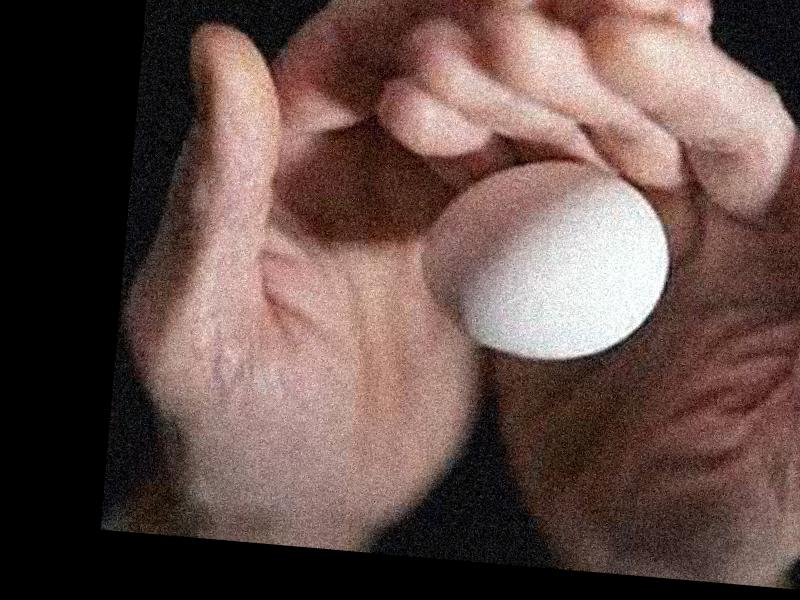Eggs: (416, 152, 677, 371)
